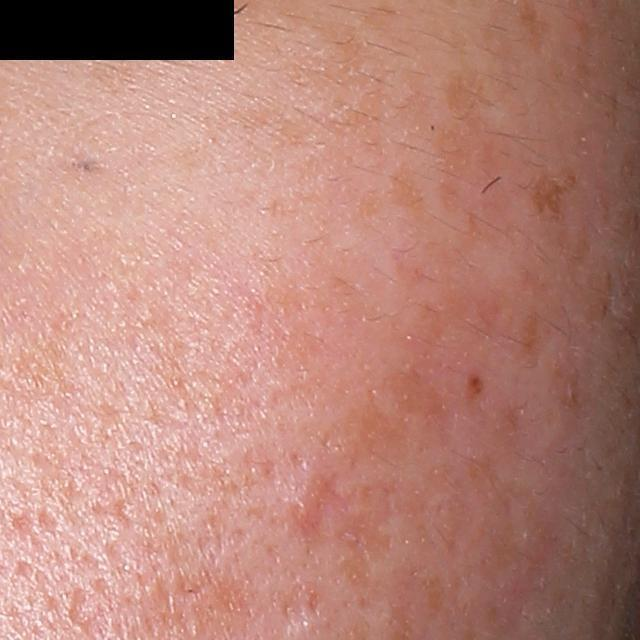melasma: (322, 341, 462, 471), (318, 83, 389, 161), (382, 155, 429, 210), (528, 164, 567, 218)
papule: (291, 495, 322, 529)
